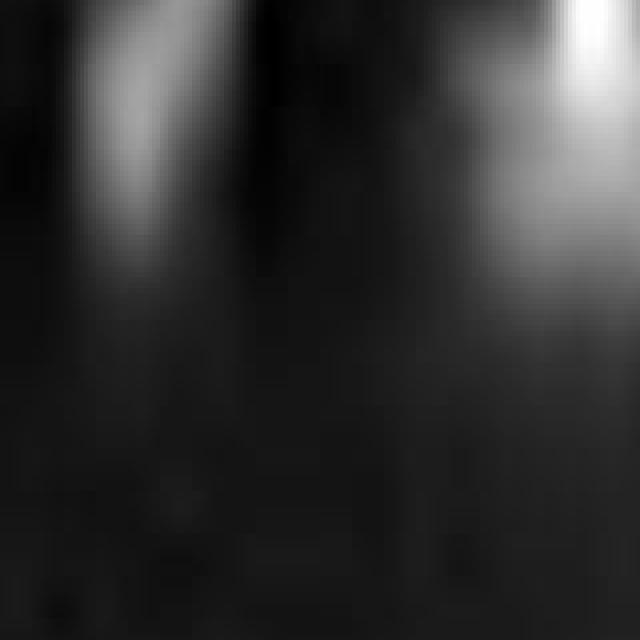person: (49, 1, 225, 321), (521, 1, 640, 348)
